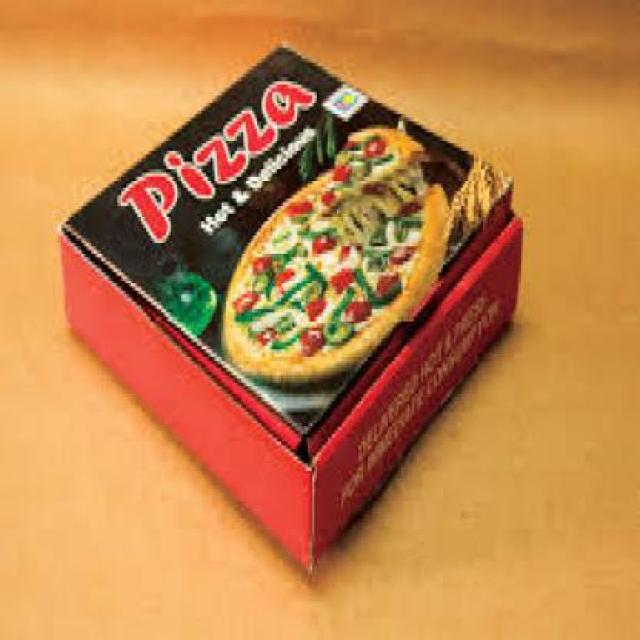CARDBOARD: (55, 41, 523, 570)
